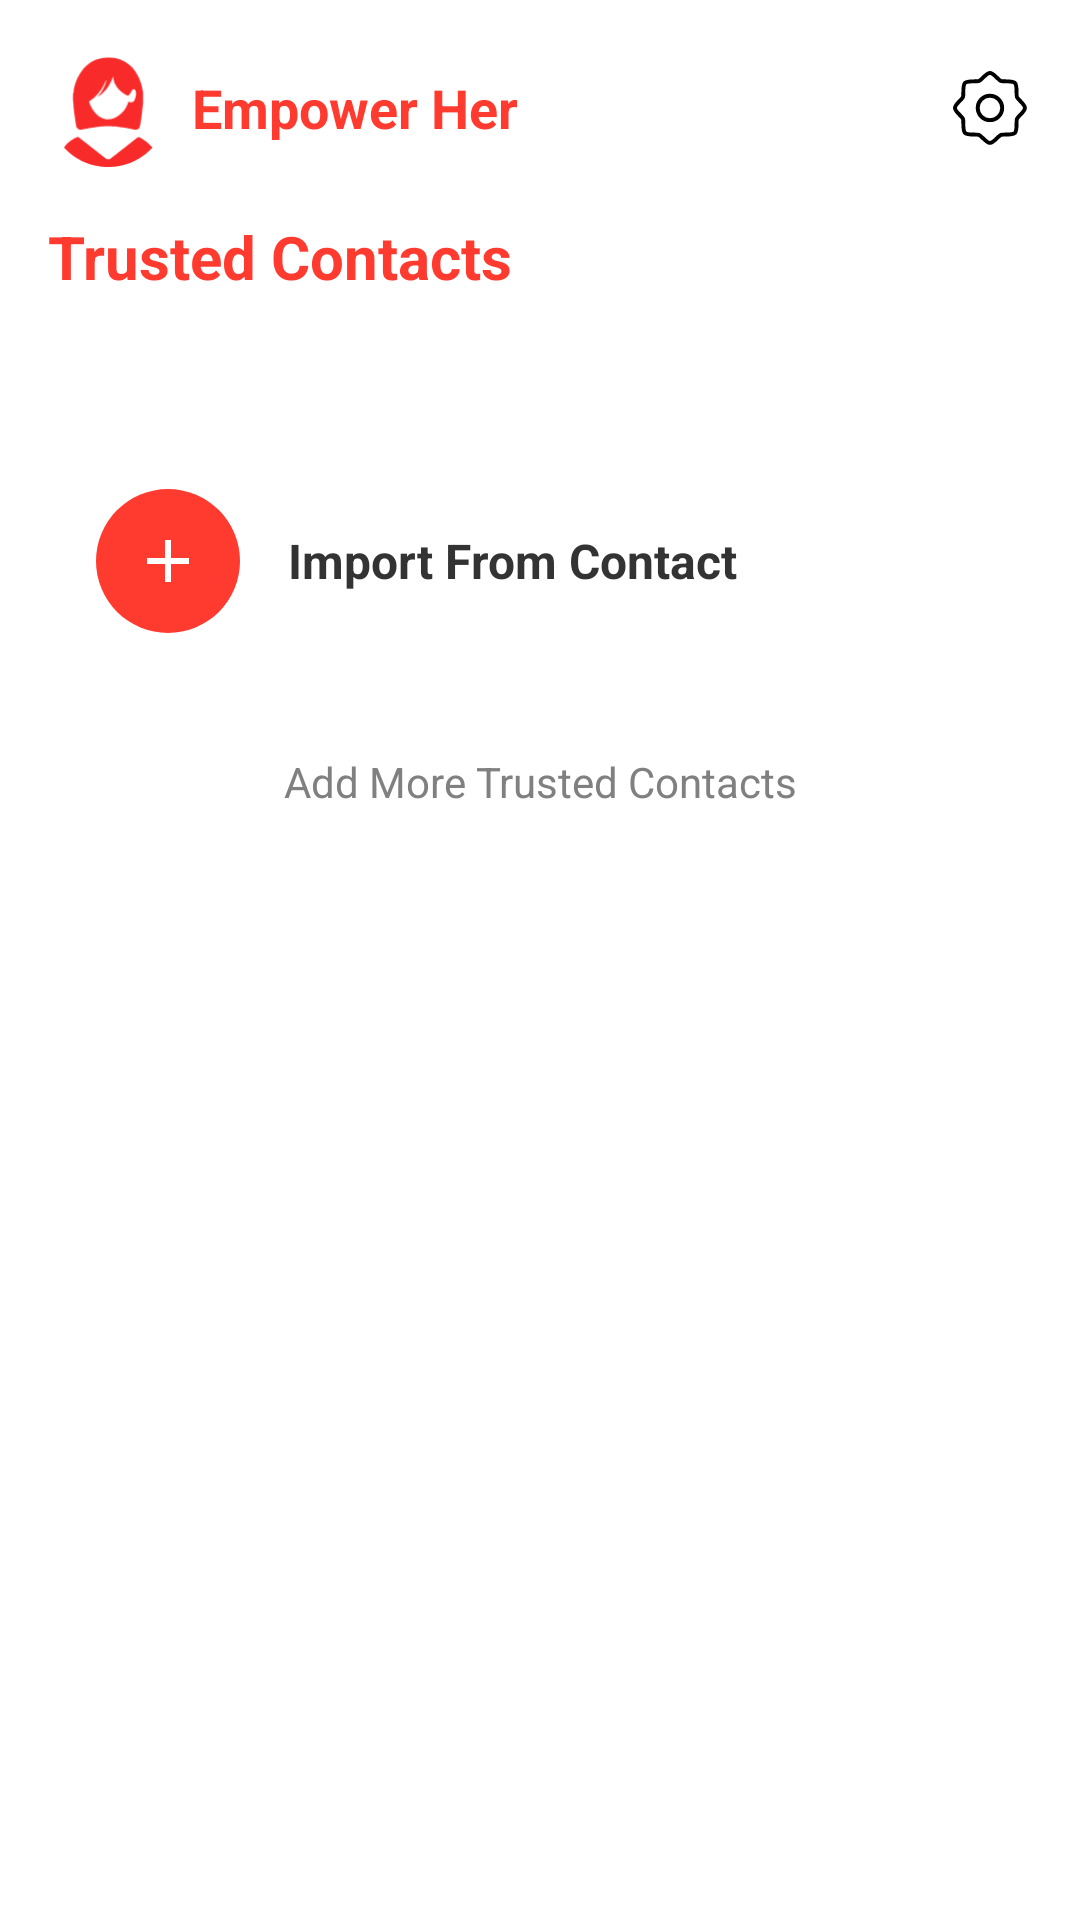

Icons on this 1080px×1920px Android screen, each with its box as (x1, y1, x2, y2):
add circle: (96, 489, 240, 633)
settings: (953, 71, 1027, 145)
